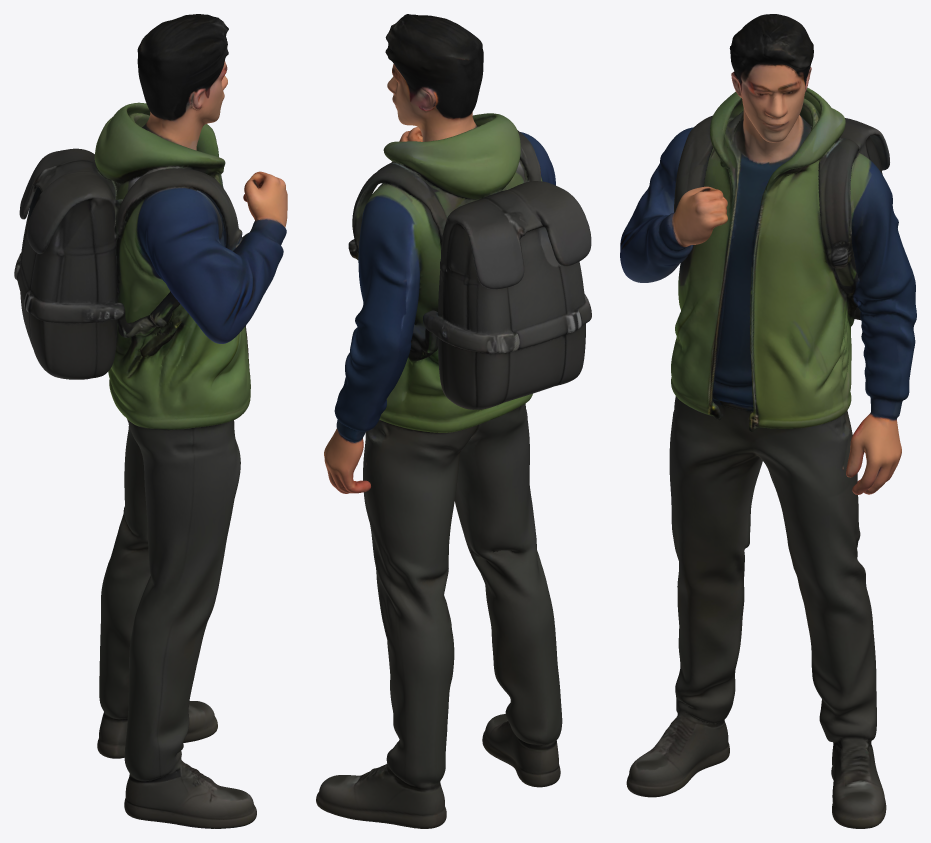
The model's file is HumanFigure.glb.
The picture shows the model from 3 angles, left to right: view 1: azimuth 30°, elevation 25°; view 2: azimuth 150°, elevation 25°; view 3: azimuth 270°, elevation 25°; orthographic projection. The views are drawn at different scales.
Parts seen in each view (by area): view 1: tripo_node_c437f405-2925-4c64-af59-4b4f3d902688; view 2: tripo_node_c437f405-2925-4c64-af59-4b4f3d902688; view 3: tripo_node_c437f405-2925-4c64-af59-4b4f3d902688.
Boxes of the visible parts, bbox=[...] form: tripo_node_c437f405-2925-4c64-af59-4b4f3d902688: bbox=[14, 14, 287, 828]; tripo_node_c437f405-2925-4c64-af59-4b4f3d902688: bbox=[316, 14, 591, 828]; tripo_node_c437f405-2925-4c64-af59-4b4f3d902688: bbox=[620, 14, 916, 828].
Size of the model in its own units: 0.3082 by 1 by 0.3463.
Materials: 1 (1 with a texture image).
